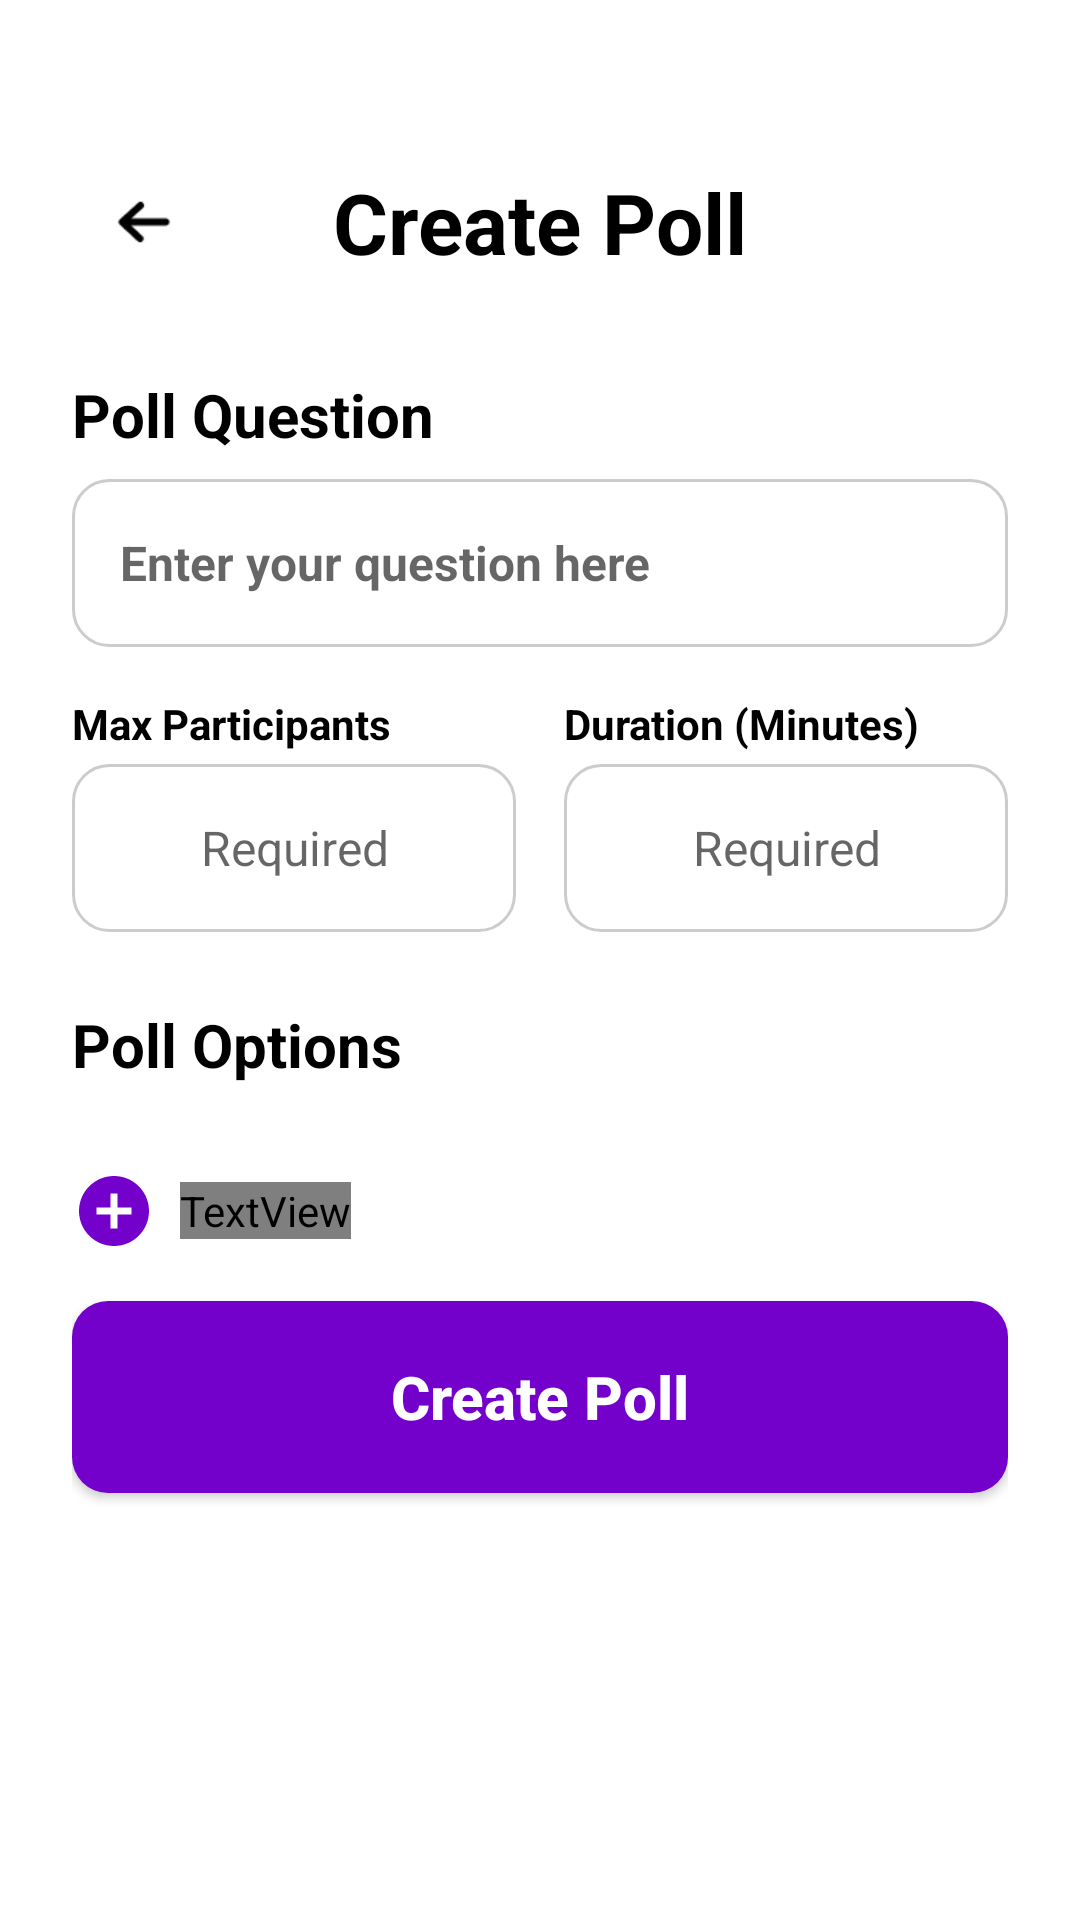

Named icons in this screenshot (1080x1920) and their bounding boxes, (x1, y1, x2, y2):
add circle: (79, 1176, 149, 1246)
back arrow: (118, 201, 170, 243)
